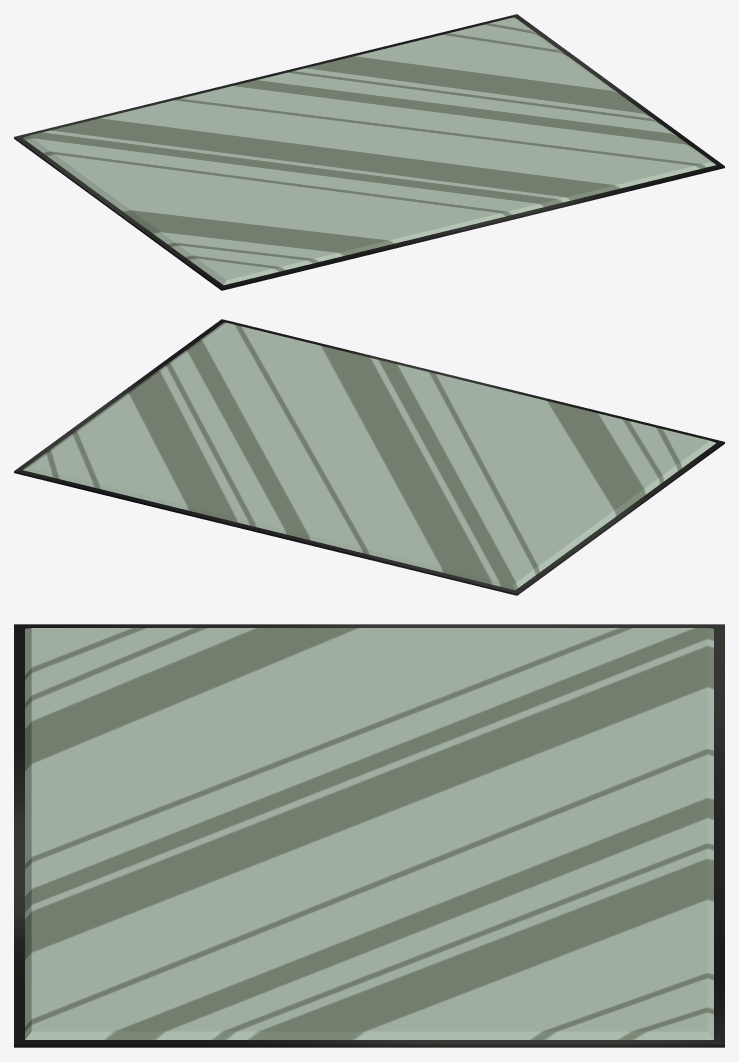
The model's file is Carpet.fbx.
3 views of the same model, one above another, from view 1: azimuth 30°, elevation 25°; view 2: azimuth 150°, elevation 25°; view 3: azimuth 270°, elevation 25° (orthographic). The views are drawn at different scales.
Visible parts, largest first — view 1: carpet; view 2: carpet; view 3: carpet.
Boxes of the visible parts, x1=… form: carpet: x1=14, y1=14, x2=724, y2=290; carpet: x1=14, y1=319, x2=724, y2=595; carpet: x1=14, y1=624, x2=724, y2=1047.
Bounding box in the file's own units: 55.04 × 0.4724 × 39.37.
1 material, 1 textured.
